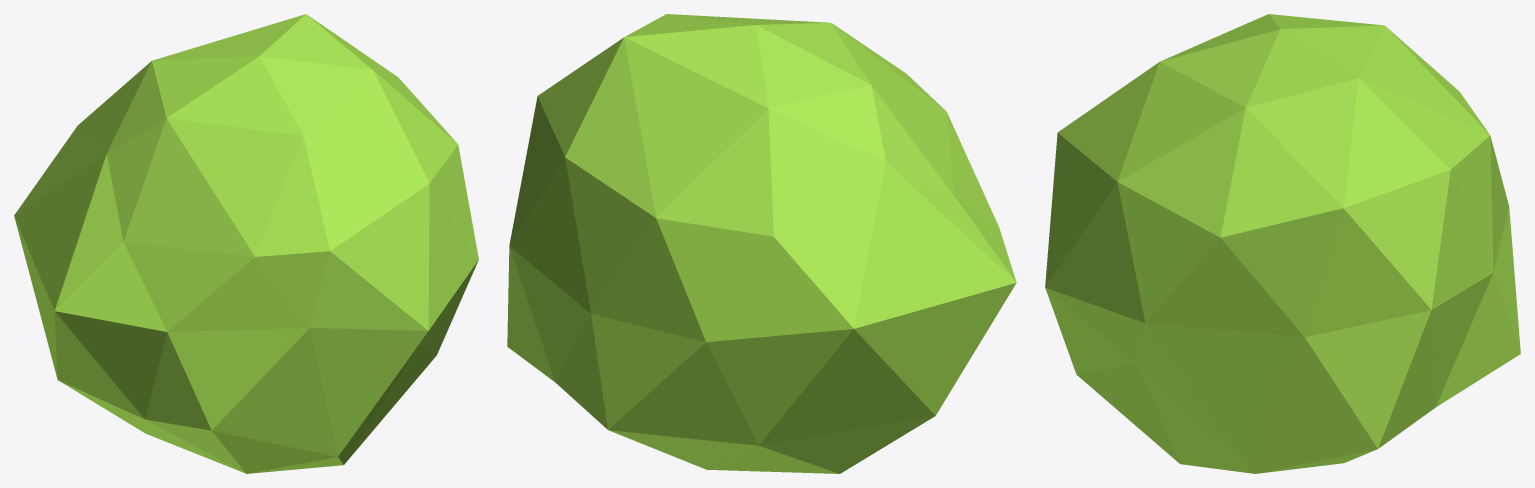
File: bush.fbx
The picture shows the model from 3 angles, left to right: view 1: azimuth 30°, elevation 25°; view 2: azimuth 150°, elevation 25°; view 3: azimuth 270°, elevation 25°; orthographic projection. The views are drawn at different scales.
Visible parts, largest first — view 1: Icosphere.040; view 2: Icosphere.040; view 3: Icosphere.040.
Boxes of the visible parts, left/top/right/bottom form: Icosphere.040: left=14, top=14, right=478, bottom=473; Icosphere.040: left=507, top=14, right=1016, bottom=473; Icosphere.040: left=1045, top=14, right=1520, bottom=473.
Size of the model in its own units: 816 by 769 by 779.
